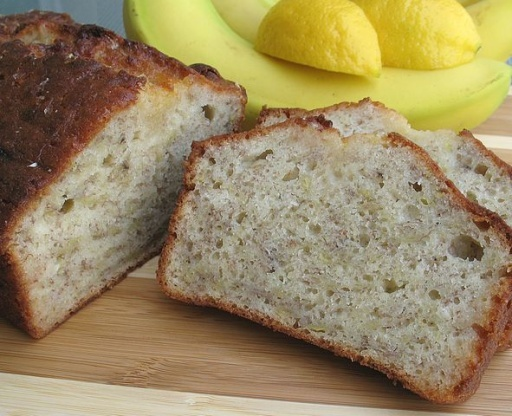background: (0, 0, 410, 263)
